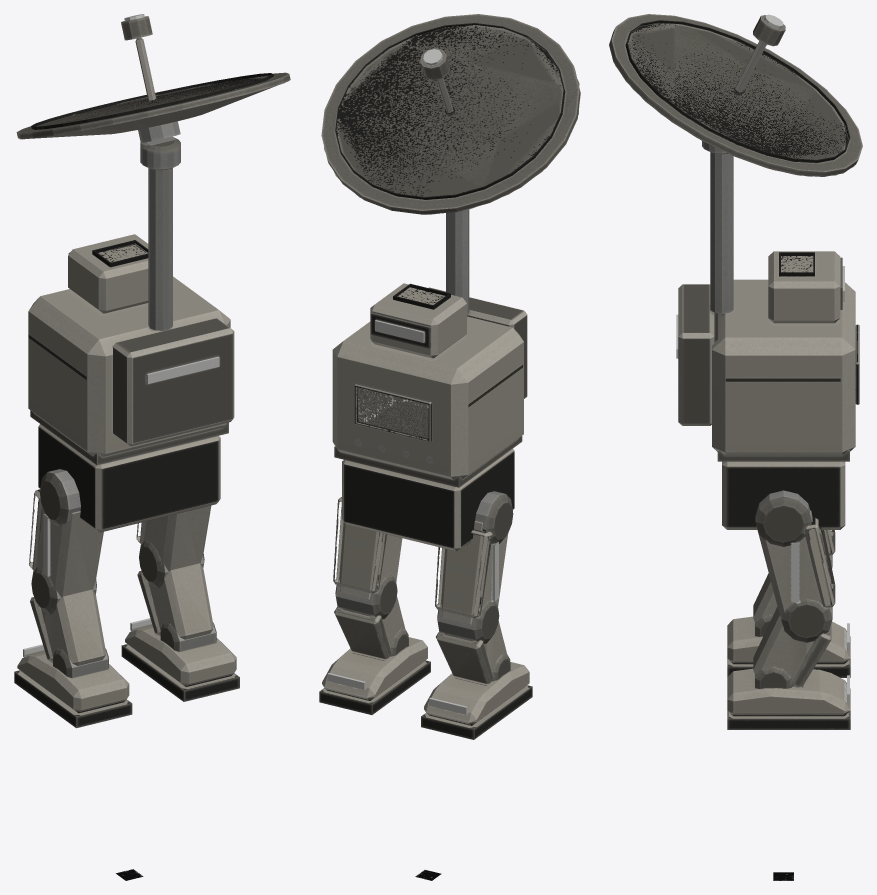
Rendered from ord_sextant.fbx.
3 views of the same model, side by side, from view 1: azimuth 30°, elevation 25°; view 2: azimuth 150°, elevation 25°; view 3: azimuth 270°, elevation 25° (orthographic). The views are drawn at different scales.
Parts seen in each view (by area): view 1: torso_bar, base_bar, radar_bar, thighL_bar, footL_bar, footR_bar, shinR_bar, shinL_bar, thighR_bar, torso_glow_power_bar; view 2: radar_bar, torso_bar, base_bar, thighL_bar, thighR_bar, footL_bar, footR_bar, shinR_bar, shinL_bar, torso_glow_head_bar; view 3: torso_bar, radar_bar, thighR_bar, base_bar, footR_bar, shinR_bar, footL_bar, shinL_bar, thighR_glow_running_bar.
Boxes of the visible parts, left/top/right/bottom form: torso_bar: left=28, top=136, right=234, bottom=465; base_bar: left=38, top=424, right=220, bottom=532; radar_bar: left=16, top=16, right=290, bottom=142; thighL_bar: left=29, top=469, right=103, bottom=614; footL_bar: left=14, top=652, right=132, bottom=728; footR_bar: left=121, top=626, right=239, bottom=701; shinR_bar: left=137, top=563, right=216, bottom=651; shinL_bar: left=30, top=589, right=108, bottom=678; thighR_bar: left=136, top=505, right=211, bottom=588; torso_glow_power_bar: left=146, top=356, right=219, bottom=383; radar_bar: left=321, top=14, right=580, bottom=214; torso_bar: left=332, top=209, right=527, bottom=487; base_bar: left=342, top=449, right=514, bottom=551; thighL_bar: left=435, top=491, right=513, bottom=643; thighR_bar: left=333, top=497, right=402, bottom=619; footL_bar: left=421, top=662, right=532, bottom=739; footR_bar: left=319, top=637, right=430, bottom=714; shinR_bar: left=334, top=597, right=408, bottom=659; shinL_bar: left=436, top=621, right=510, bottom=683; torso_glow_head_bar: left=375, top=320, right=424, bottom=342; torso_bar: left=678, top=141, right=859, bottom=461; radar_bar: left=609, top=14, right=862, bottom=176; thighR_bar: left=755, top=490, right=835, bottom=642; base_bar: left=722, top=461, right=845, bottom=529; footR_bar: left=727, top=668, right=850, bottom=729; shinR_bar: left=753, top=606, right=831, bottom=688; footL_bar: left=727, top=616, right=850, bottom=677; shinL_bar: left=753, top=573, right=831, bottom=636; thighR_glow_running_bar: left=791, top=542, right=799, bottom=602.
Bounding box in the file's own units: 270 × 924 × 247.
Materials: 2 (2 with a texture image).
